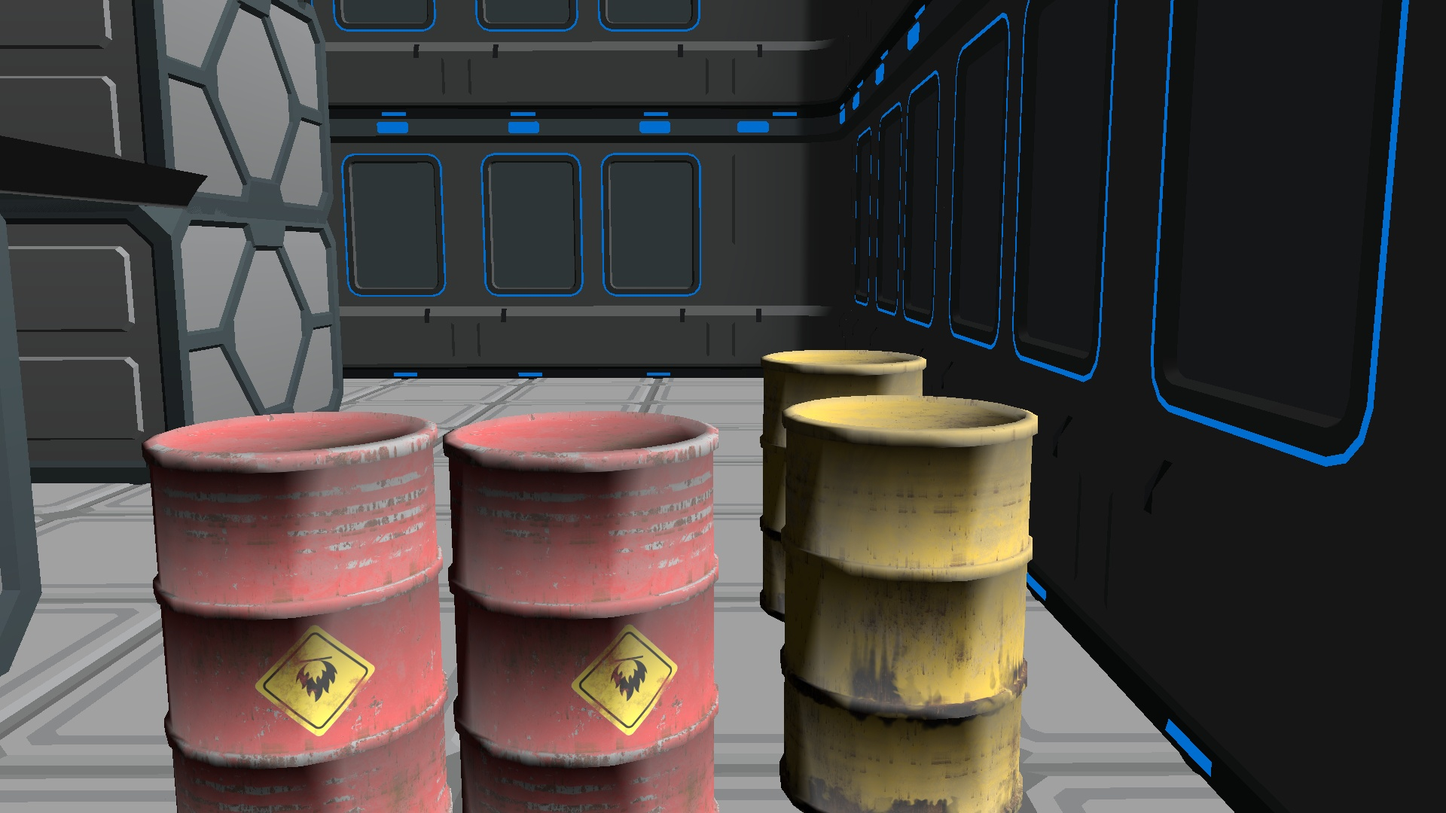toxic barrel: (144, 411, 454, 813), (443, 411, 718, 813), (780, 397, 1037, 813), (759, 350, 926, 620)
